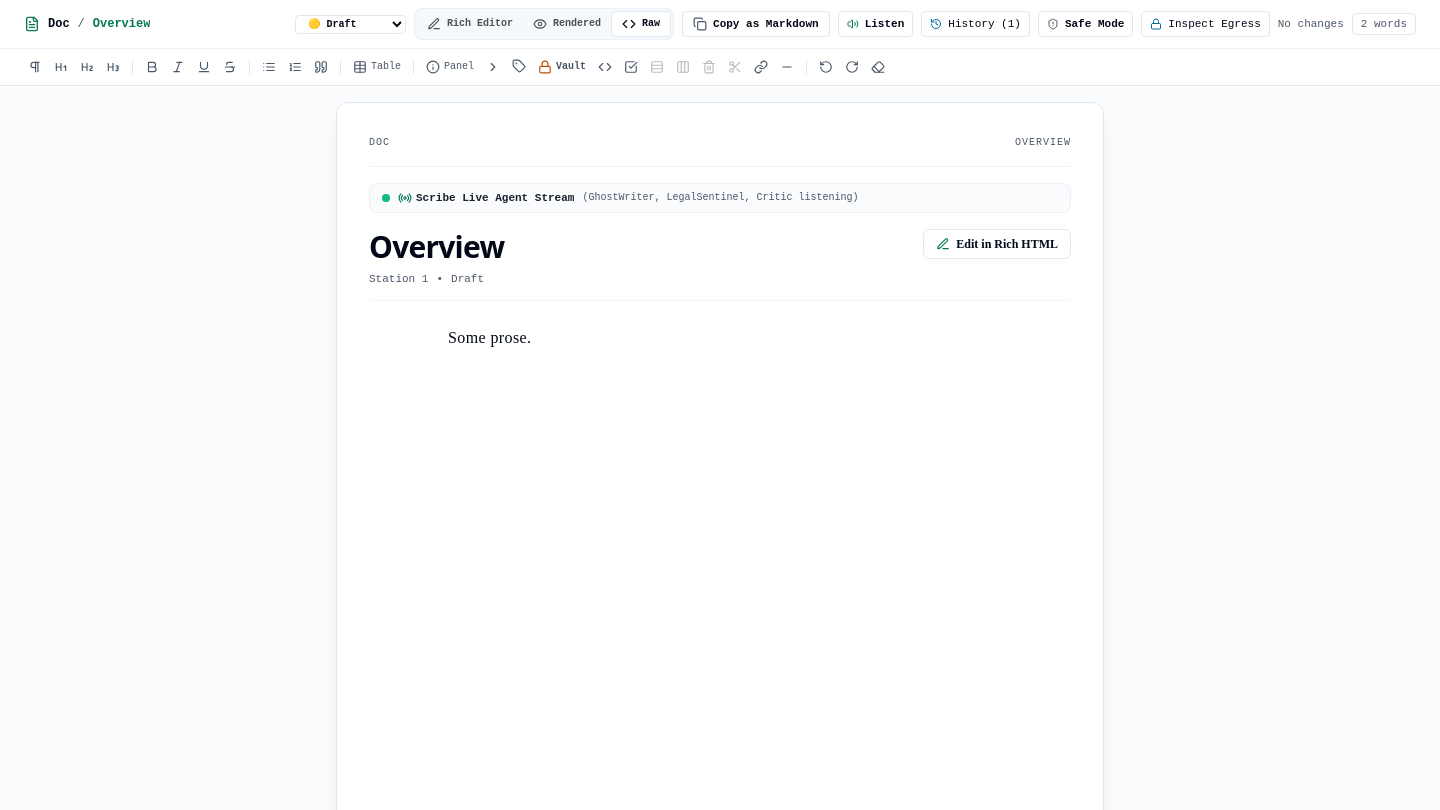
it: Insert Link › opens an in-app dialog rather than a browser prompt
Press the mouse on the button named "Insert Link" at (761, 67), box [750,56,772,78]
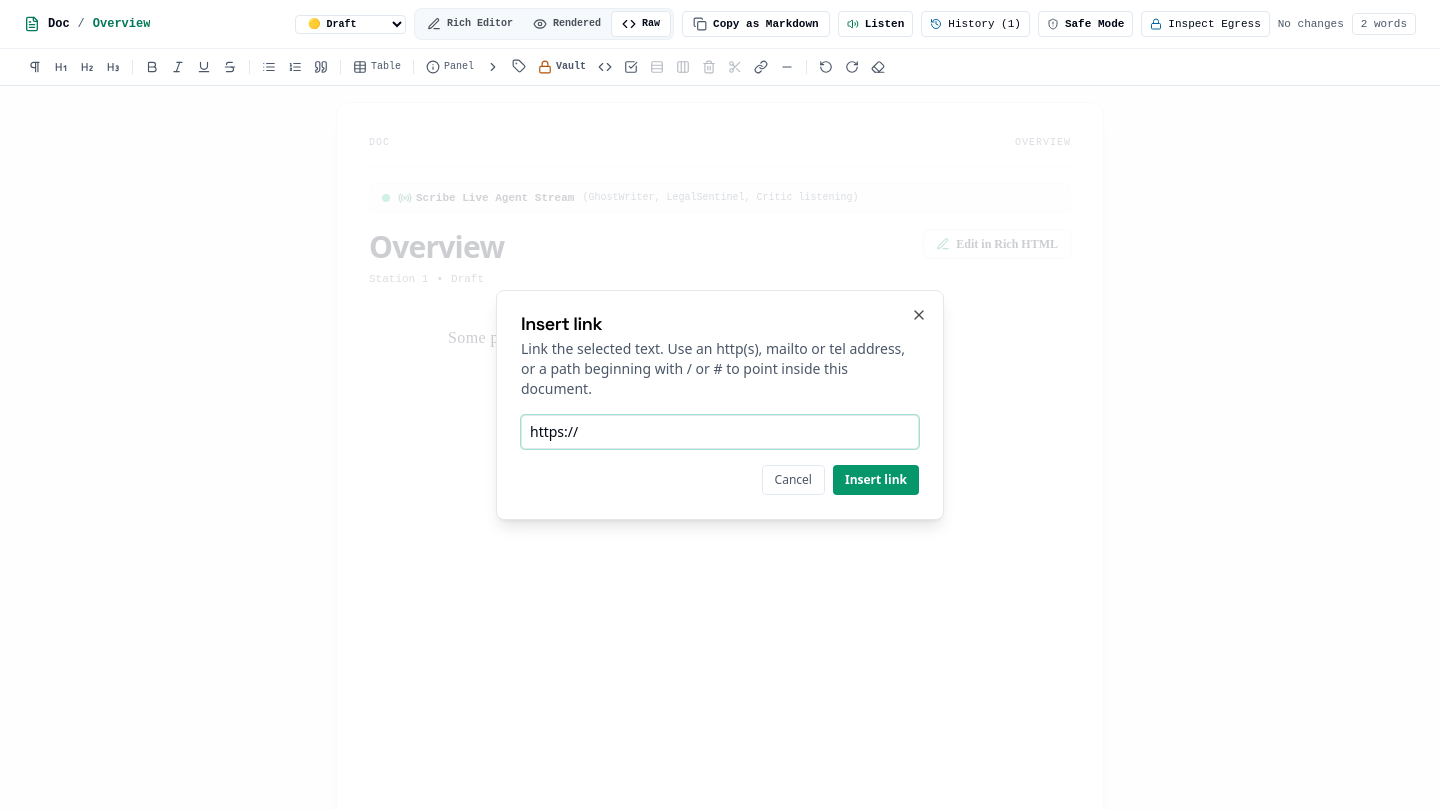
Expected: the dialog with test id "scribe-link-dialog" is shown, [496,290,944,520]
